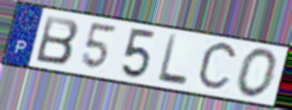5: (118, 26, 160, 81), (78, 20, 119, 73)
B: (34, 14, 81, 66)
C: (194, 40, 240, 94)
L: (155, 33, 190, 88)
O: (235, 46, 281, 100)
